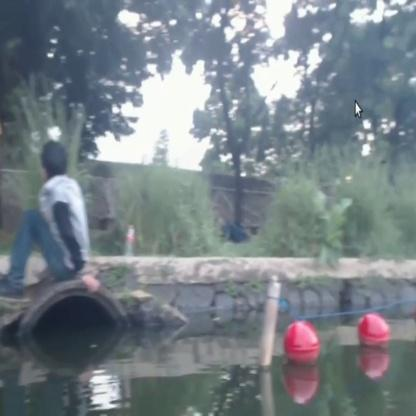red_buoy: (283, 320, 318, 366), (357, 318, 391, 354)
